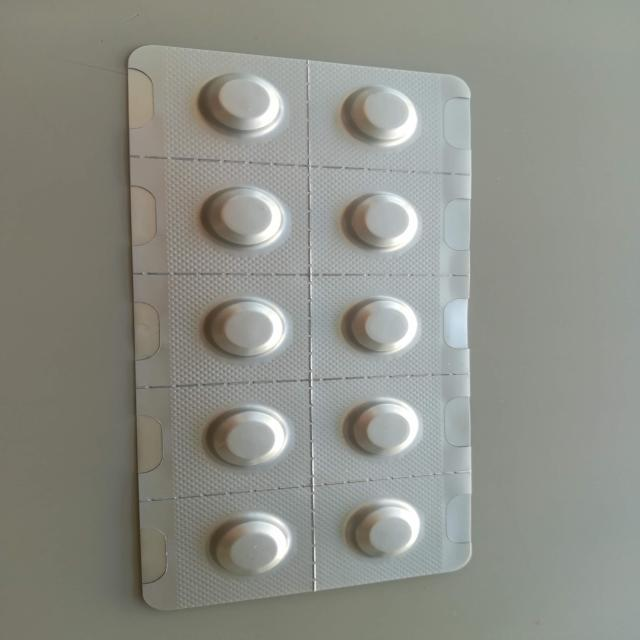Pill: (187, 60, 295, 142), (195, 511, 308, 581), (198, 288, 294, 364), (194, 181, 286, 253), (333, 189, 430, 255), (340, 394, 430, 464), (333, 80, 428, 146), (200, 405, 290, 471), (342, 500, 430, 565), (338, 294, 423, 358)
